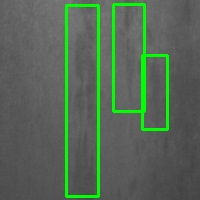inclusion: (66, 5, 98, 196), (113, 4, 144, 111), (142, 55, 167, 129)
